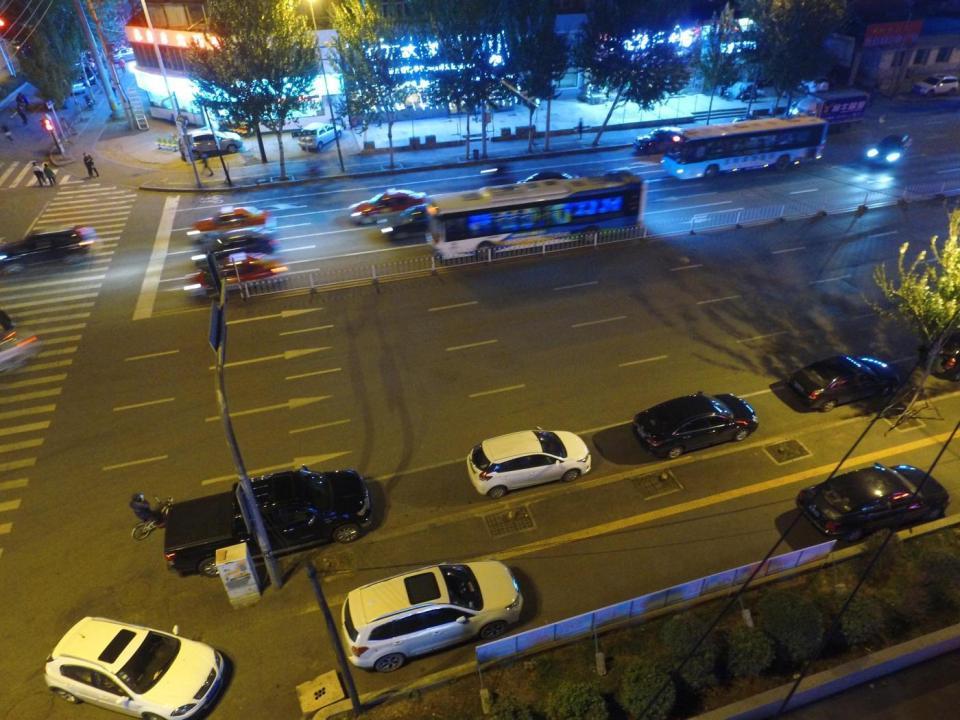bus: (427, 171, 645, 260), (660, 114, 828, 182)
car: (343, 560, 523, 670), (46, 614, 224, 720), (799, 463, 950, 539), (466, 426, 592, 501), (632, 392, 758, 459), (786, 355, 900, 412), (0, 223, 96, 273), (184, 253, 288, 298), (187, 207, 279, 240), (350, 186, 426, 223), (196, 229, 278, 261), (180, 126, 243, 159), (382, 204, 429, 240), (867, 133, 914, 167), (513, 172, 580, 195), (636, 125, 684, 154), (295, 124, 343, 153), (927, 334, 960, 376), (916, 70, 958, 97), (732, 116, 766, 135), (800, 73, 831, 92), (113, 44, 137, 63), (71, 79, 86, 96)
truck: (166, 464, 373, 577), (789, 92, 868, 130)
